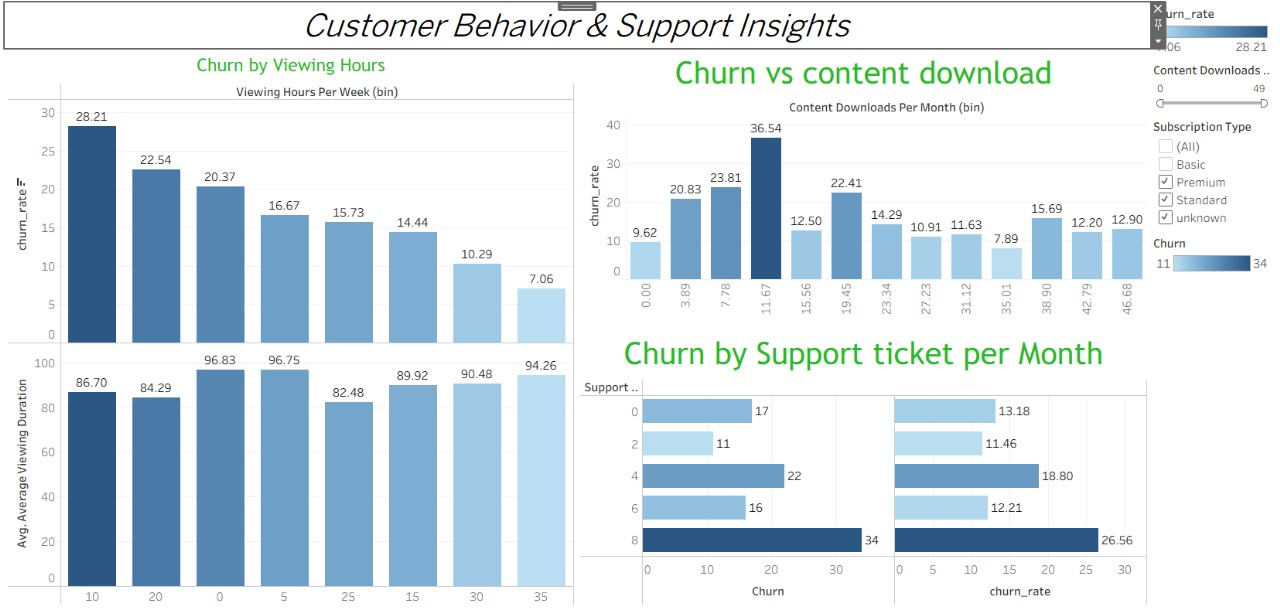

This screenshot's page, from the dashboard's own definition file:
{"tool":"tableau","page":{"name":"Churn Breakdown 2","canvas":[1000,1000],"units":"permille","ordinal":0},"visuals":[{"type":"title","box":[4.8,10,893.8,73.7]},{"type":"legend","title":"Churn by Viewing Hours","param":"[federated.17jdxjy1pwwewg15du6p11fmlk5d].[usr:Calculation_1253408102761713668:qk","box":[898.6,10,96.6,91.1]},{"type":"worksheet","title":"Churn by Viewing Hours","mark":"Automatic","rows":["Calculation_1253408102761713668","AverageViewingDuration"],"cols":["Viewing Hours Per Week (bin)"],"box":[4.8,83.7,446.9,906.4]},{"type":"worksheet","title":"Churn vs content download","mark":"Automatic","rows":["Calculation_1253408102761713668"],"cols":["Content Downloads Per Month (bin)"],"box":[451.7,83.7,446.9,453.2]},{"type":"filter","title":"Churn vs content download","param":"[federated.17jdxjy1pwwewg15du6p11fmlk5d].[none:ContentDownloadsPerMonth:qk]","box":[898.6,101.1,96.6,91.1]},{"type":"filter","title":"Churn by Support ticket per Month","param":"[federated.17jdxjy1pwwewg15du6p11fmlk5d].[none:SubscriptionType:nk]","box":[898.6,192.3,96.6,188.5]},{"type":"legend","title":"Churn by Support ticket per Month","param":"[federated.17jdxjy1pwwewg15du6p11fmlk5d].[sum:Churn:qk]","box":[898.6,380.8,96.6,91.1]},{"type":"worksheet","title":"Churn by Support ticket per Month","mark":"Automatic","rows":["Support Tickets Per Month (bin)"],"cols":["Churn","Calculation_1253408102761713668"],"box":[451.7,536.8,446.9,453.2]}]}

Visuals, with their boxes on the dashboard's canvas, which has no fixed pixel size, in thousandths of its width and height (x1, y1, x2, y2). These are canvas units, not pixel positions in the 1280x613 screenshot, which may show the page scaled, cropped or inside an application window:
title: rect(5, 10, 899, 84)
"Churn by Viewing Hours" legend: rect(899, 10, 995, 101)
"Churn by Viewing Hours" worksheet: rect(5, 84, 452, 990)
"Churn vs content download" worksheet: rect(452, 84, 899, 537)
"Churn vs content download" filter: rect(899, 101, 995, 192)
"Churn by Support ticket per Month" filter: rect(899, 192, 995, 381)
"Churn by Support ticket per Month" legend: rect(899, 381, 995, 472)
"Churn by Support ticket per Month" worksheet: rect(452, 537, 899, 990)
